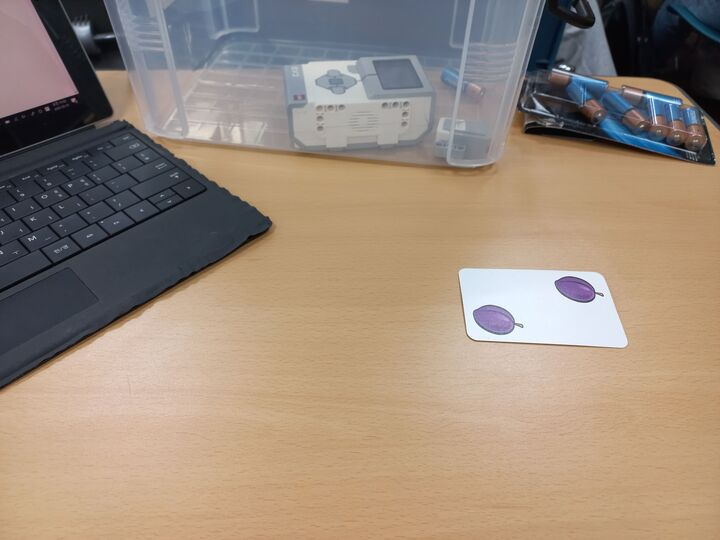plum2: (456, 265, 630, 352)
